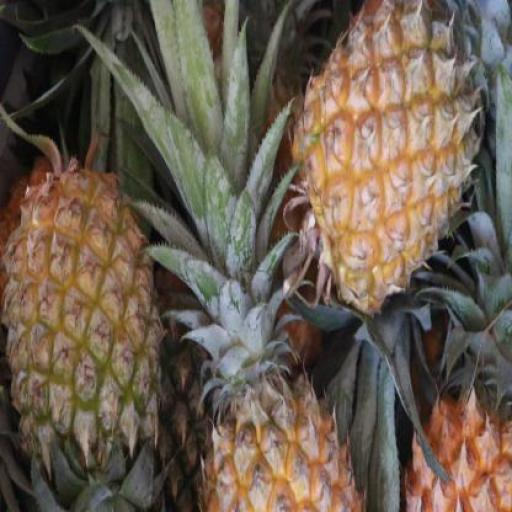------------------------------: (2, 165, 162, 464)
Pineapple - v8 v1: (286, 0, 496, 304), (193, 362, 372, 512)
